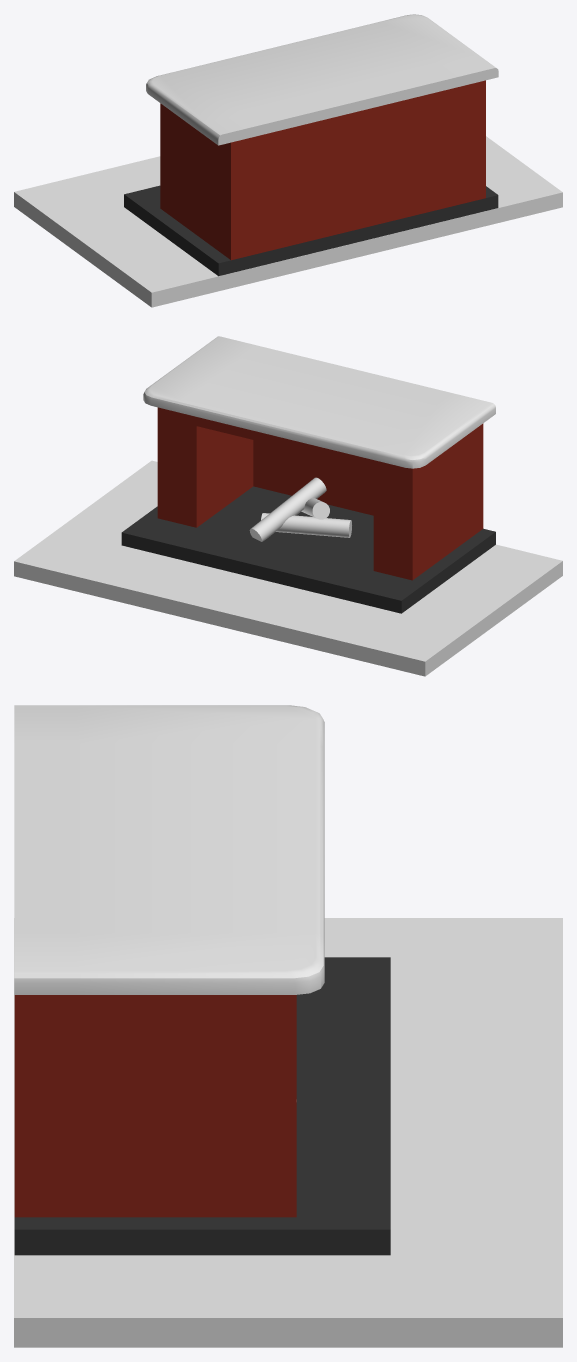
The model's file is Chimney.fbx.
The picture shows the model from 3 angles, top to bottom: view 1: azimuth 30°, elevation 25°; view 2: azimuth 150°, elevation 25°; view 3: azimuth 270°, elevation 25°; orthographic projection. The views are drawn at different scales.
Visible parts, largest first — view 1: Cylinder.001; view 2: Cylinder.001; view 3: Cylinder.001.
Boxes of the visible parts, bbox=[...] form: Cylinder.001: bbox=[14, 14, 562, 307]; Cylinder.001: bbox=[14, 336, 562, 676]; Cylinder.001: bbox=[14, 705, 562, 1347].
Bounding box in the file's own units: 423 × 153 × 246.
